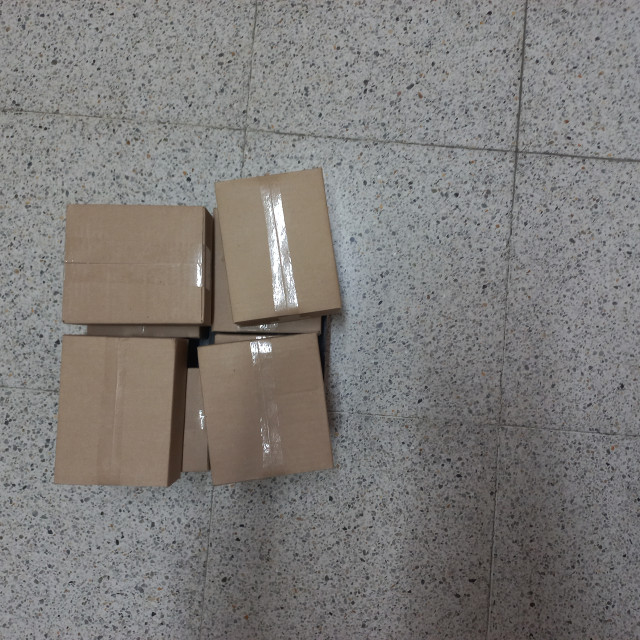box: (193, 327, 339, 490), (212, 164, 346, 329), (52, 336, 183, 491), (59, 203, 210, 329)
